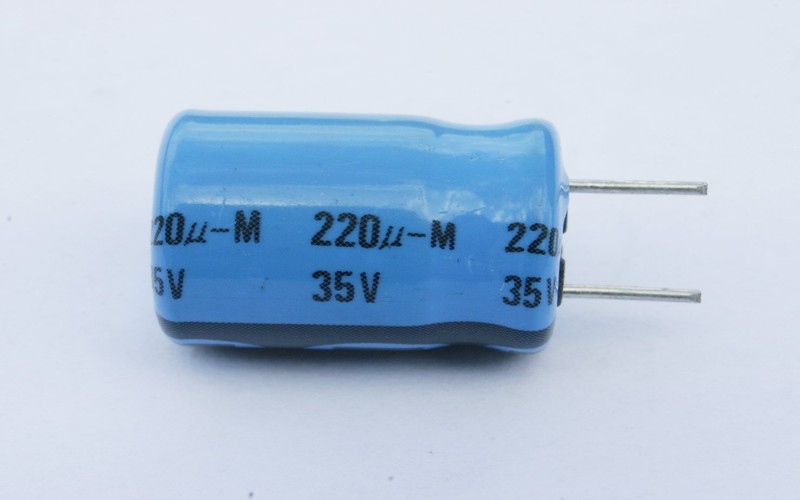Capacitor: (132, 69, 711, 362)
